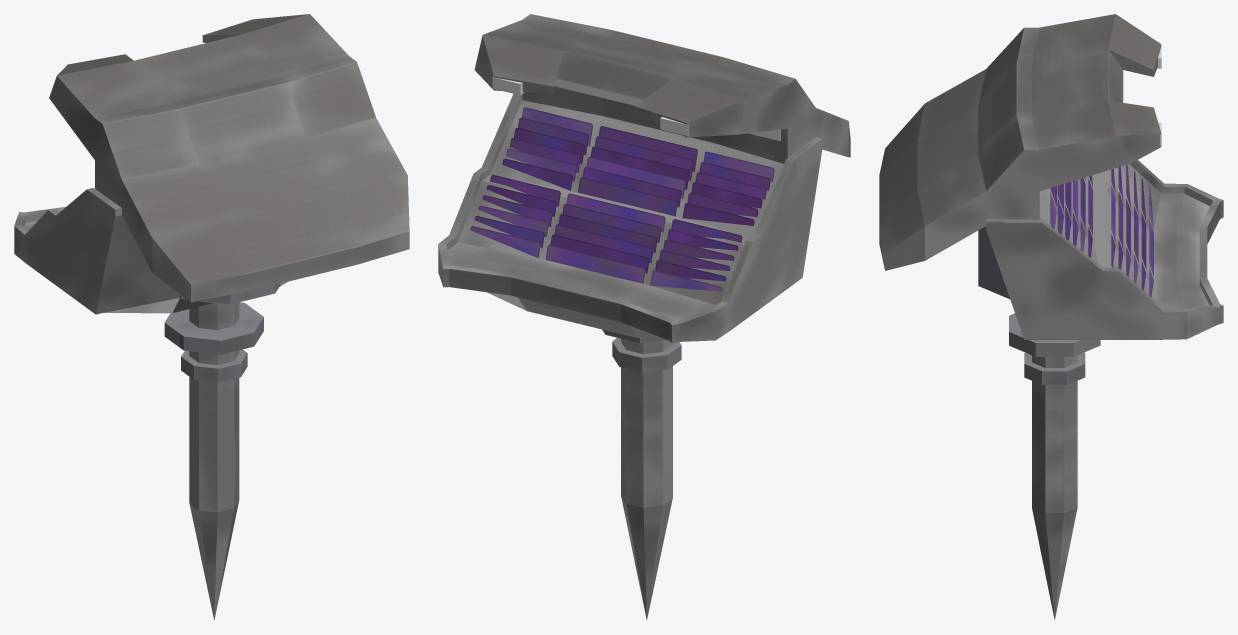
File: floatingStands.fbx
3 renders of one model, left to right at view 1: azimuth 30°, elevation 25°; view 2: azimuth 150°, elevation 25°; view 3: azimuth 270°, elevation 25°, orthographic. The views are drawn at different scales.
Parts seen in each view (by area): view 1: Structure, cylinder_3, cylinder_1, cylinder_2, cylinder; view 2: Structure, cylinder_3, Lights, plane_31, plane_4, cylinder_2, plane_2, plane_1, plane, plane_5, plane_3, plane_32 (+28 smaller); view 3: Structure, cylinder_3, cylinder_1, cylinder_2, cylinder.
Boxes of the visible parts, x1,y1,x2,y2 form: Structure: [14, 14, 409, 314]; cylinder_3: [189, 302, 239, 620]; cylinder_1: [164, 302, 263, 354]; cylinder_2: [181, 349, 247, 382]; cylinder: [180, 283, 281, 304]; Structure: [438, 14, 850, 343]; cylinder_3: [621, 338, 672, 620]; Lights: [492, 77, 780, 141]; plane_31: [545, 245, 645, 283]; plane_4: [578, 177, 677, 216]; cylinder_2: [612, 337, 681, 372]; plane_2: [599, 126, 697, 171]; plane_1: [594, 136, 693, 180]; plane: [590, 146, 689, 189]; plane_5: [586, 157, 685, 198]; plane_3: [582, 167, 681, 207]; plane_32: [550, 234, 649, 273]; Structure: [879, 14, 1223, 339]; cylinder_3: [1032, 355, 1077, 620]; cylinder_1: [1009, 313, 1100, 356]; cylinder_2: [1024, 352, 1085, 384]; cylinder: [978, 226, 1009, 299].
Size of the model in its own units: 250 by 494 by 282.
Materials: 2 (2 with a texture image).
